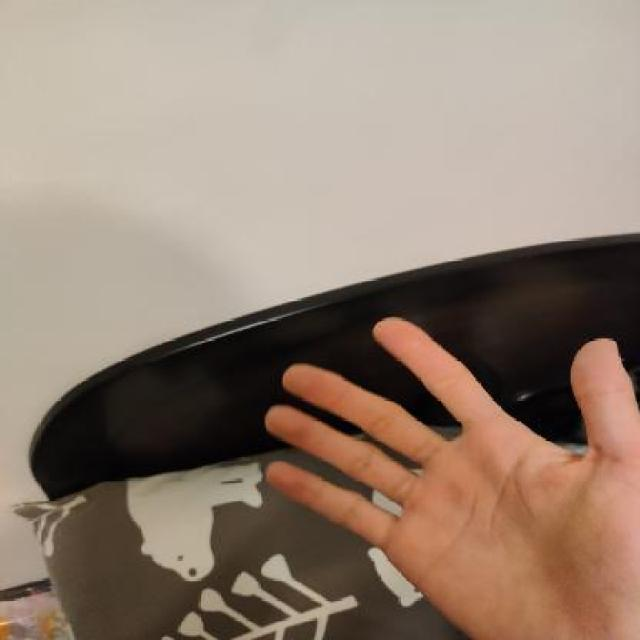bare_hand: (252, 295, 640, 640)
